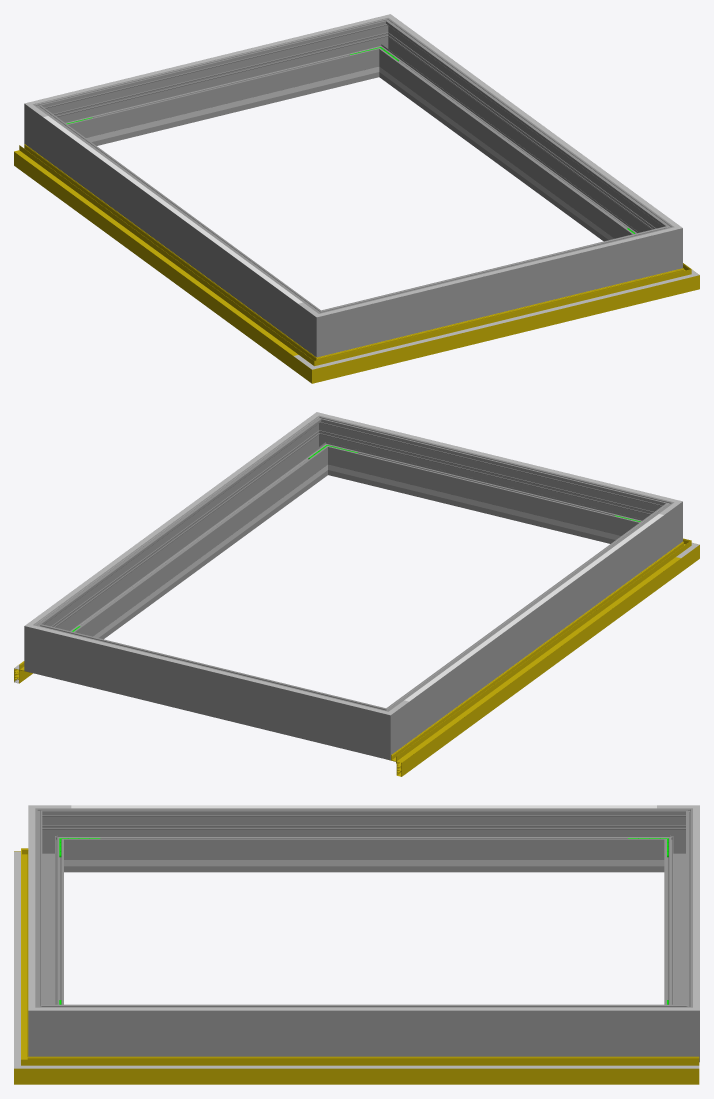
3 renders of one model, top to bottom at view 1: azimuth 30°, elevation 25°; view 2: azimuth 150°, elevation 25°; view 3: azimuth 270°, elevation 25°, orthographic. The views are drawn at different scales.
Parts seen in each view (by area): view 1: 3DGeom-276, 3DGeom-297, 3DGeom-298, 3DGeom-268, 3DGeom-90, 3DGeom-85, 3DGeom-270, 3DGeom-105, 3DGeom-290, 3DGeom-244, 3DGeom-284, 3DGeom-313 (+8 smaller); view 2: 3DGeom-298, 3DGeom-297, 3DGeom-276, 3DGeom-268, 3DGeom-85, 3DGeom-278, 3DGeom-284, 3DGeom-105, 3DGeom-239, 3DGeom-290, 3DGeom-313, 3DGeom-303 (+4 smaller); view 3: 3DGeom-268, 3DGeom-297, 3DGeom-97, 3DGeom-298, 3DGeom-276, 3DGeom-232, 3DGeom-98, 3DGeom-303, 3DGeom-313, 3DGeom-290, 3DGeom-284, 3DGeom-278 (+6 smaller).
Part boxes in pixels (x1,y1,x2,y2): 3DGeom-276: (59,24,373,145); 3DGeom-297: (382,29,658,241); 3DGeom-298: (343,231,650,349); 3DGeom-268: (43,114,308,343); 3DGeom-90: (338,273,667,375); 3DGeom-85: (14,144,303,369); 3DGeom-270: (298,301,348,357); 3DGeom-105: (14,150,298,355); 3DGeom-290: (644,216,682,275); 3DGeom-244: (98,74,347,140); 3DGeom-284: (361,17,403,78); 3DGeom-313: (43,116,302,303); 3DGeom-298: (333,422,647,543); 3DGeom-297: (47,426,324,639); 3DGeom-276: (56,629,364,752); 3DGeom-268: (399,512,664,741); 3DGeom-85: (390,550,681,776); 3DGeom-278: (358,699,409,760); 3DGeom-284: (24,613,62,678); 3DGeom-105: (396,557,680,763); 3DGeom-239: (359,472,609,538); 3DGeom-290: (302,415,345,476); 3DGeom-313: (404,514,663,701); 3DGeom-303: (43,426,302,613); 3DGeom-268: (71,808,656,872); 3DGeom-297: (71,1004,656,1056); 3DGeom-97: (57,1056,699,1084); 3DGeom-298: (35,823,63,1004); 3DGeom-276: (664,823,692,1004); 3DGeom-232: (105,860,622,866); 3DGeom-98: (57,1065,699,1068); 3DGeom-303: (71,1007,656,1010); 3DGeom-313: (71,805,656,808); 3DGeom-290: (28,992,70,1056); 3DGeom-284: (657,992,699,1062); 3DGeom-278: (657,808,692,872).
Bounding box in the file's own units: 1.83 × 0.2667 × 2.44.
